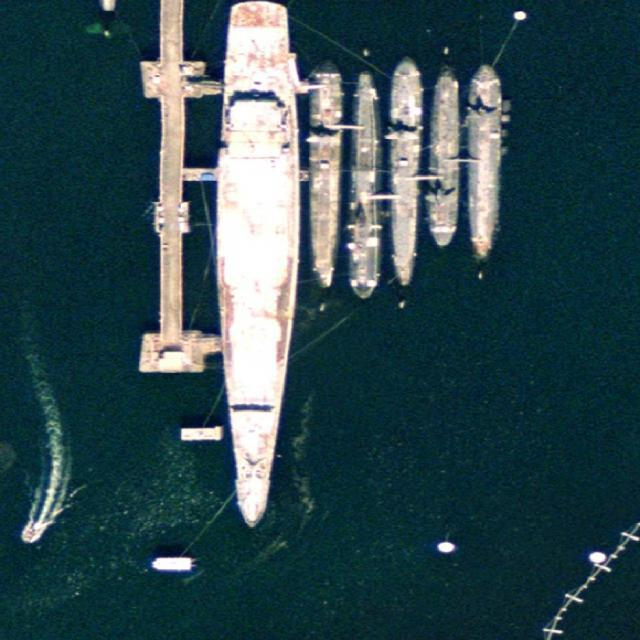Dock: (160, 3, 183, 336)
Submarine: (343, 67, 381, 303), (306, 57, 344, 292), (385, 56, 423, 290), (463, 61, 500, 262), (427, 66, 463, 249)
